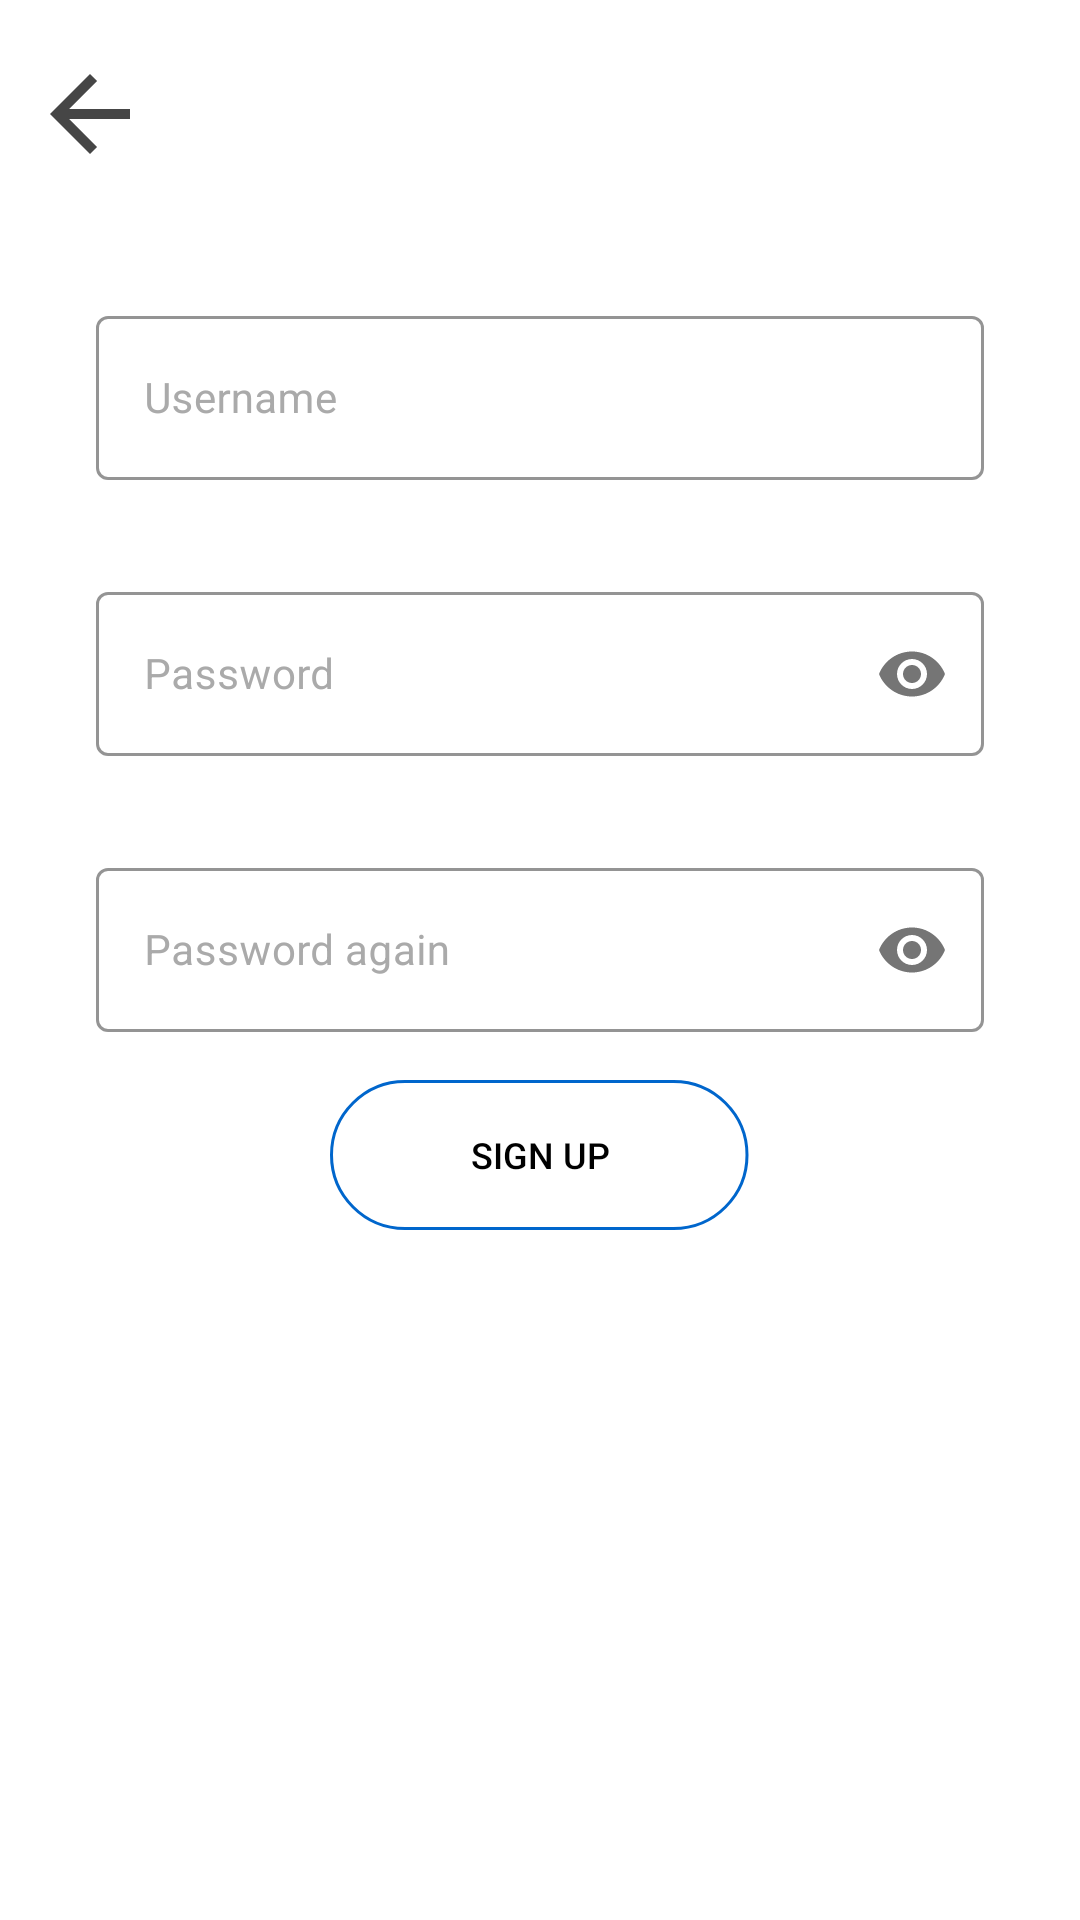

Locate icon controls on the screen. Image size 1080px×1920px, boxes as (x1, y1, x2, y2).
arrow back: (50, 74, 130, 154)
